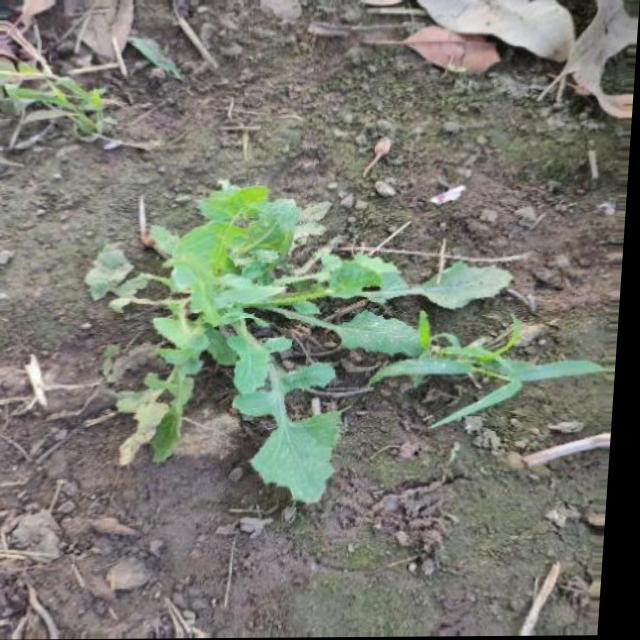weed: (82, 169, 579, 489)
